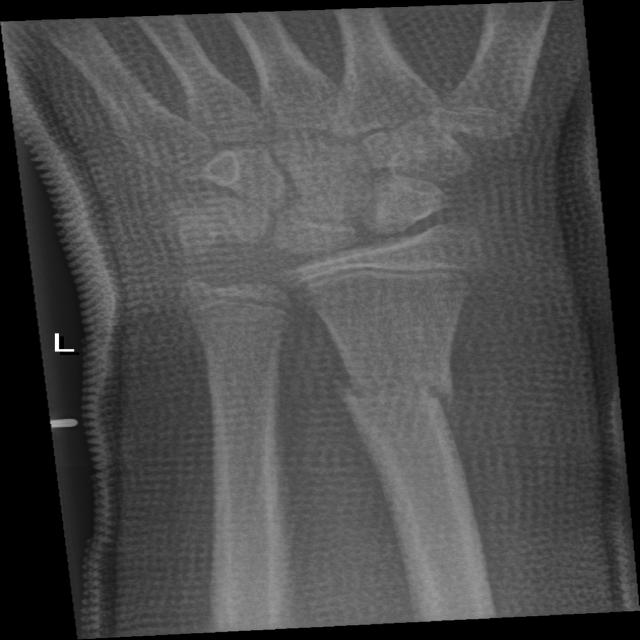radius fracture: (302, 337, 510, 503)
